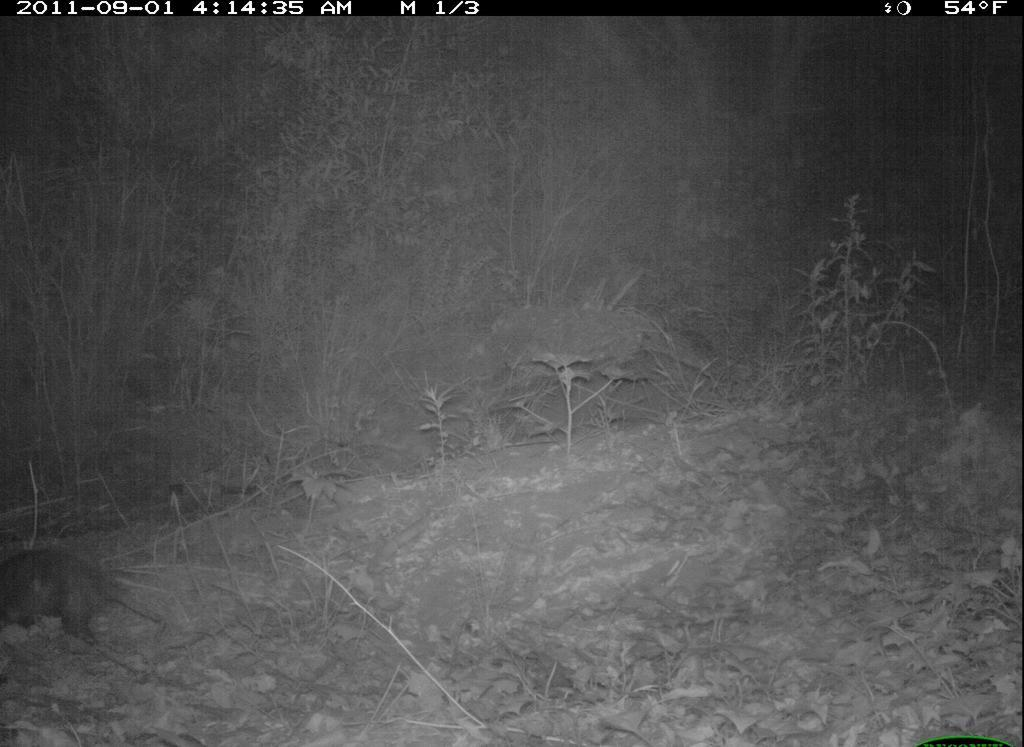opossum: (2, 530, 188, 665)
